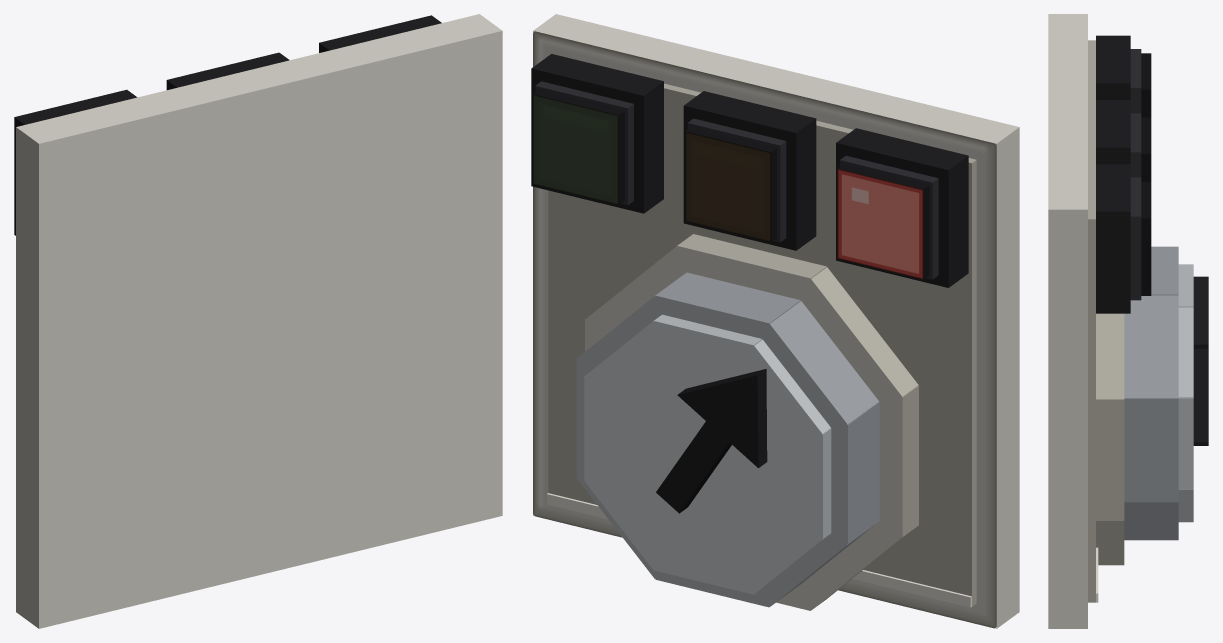
File: knob_switch3_red.obj
The picture shows the model from 3 angles, left to right: view 1: azimuth 30°, elevation 25°; view 2: azimuth 150°, elevation 25°; view 3: azimuth 270°, elevation 25°; orthographic projection. The views are drawn at different scales.
Parts seen in each view (by area): view 1: Panel, LampRed, LampOrange, LampGreen; view 2: Panel, Knob, LampOrange, LampGreen, LampRed; view 3: Panel, Knob, LampGreen, LampRed, LampOrange.
Boxes of the visible parts, x1,y1,x2,y2 form: Panel: (16,14,502,628); LampRed: (14,89,137,235); LampOrange: (166,52,289,89); LampGreen: (319,15,441,52); Panel: (533,14,1019,628); Knob: (576,234,918,610); LampOrange: (683,91,816,250); LampGreen: (531,54,663,213); LampRed: (836,128,968,287); Panel: (1048,14,1098,628); Knob: (1096,246,1208,565); LampGreen: (1096,164,1151,313); LampRed: (1096,35,1151,117); LampOrange: (1096,100,1151,181).
Size of the model in its own units: 0.875 by 0.8875 by 0.3038.
1 material, 1 textured.
